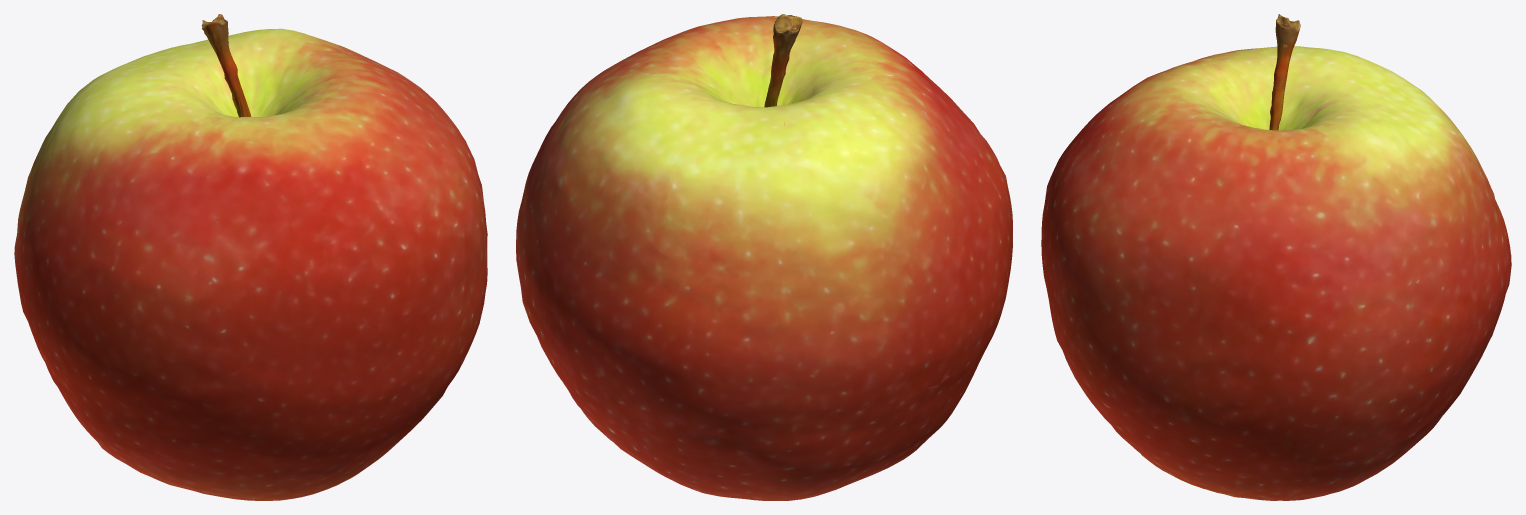
Rendered from apple.glb.
3 views of the same model, side by side, from view 1: azimuth 30°, elevation 25°; view 2: azimuth 150°, elevation 25°; view 3: azimuth 270°, elevation 25° (orthographic). The views are drawn at different scales.
Bounding box in the file's own units: 0.9219 × 0.9512 × 0.9253.
Materials: 1 (1 with a texture image).
